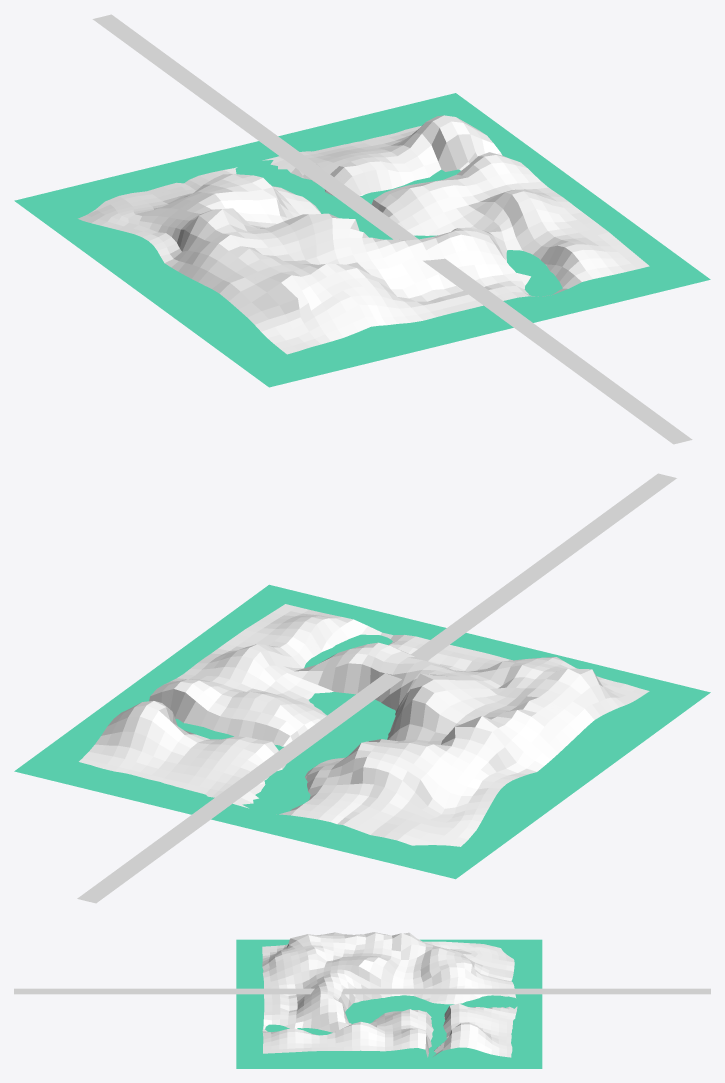
The model's file is terrian.glb.
The picture shows the model from 3 angles, top to bottom: view 1: azimuth 30°, elevation 25°; view 2: azimuth 150°, elevation 25°; view 3: azimuth 270°, elevation 25°; orthographic projection. The views are drawn at different scales.
Parts seen in each view (by area): view 1: mountain, water, Plane; view 2: mountain, water, Plane; view 3: mountain, water, Plane.
Boxes of the visible parts, bbox=[...] form: mountain: bbox=[78, 115, 649, 354]; water: bbox=[14, 93, 710, 387]; Plane: bbox=[92, 14, 692, 444]; mountain: bbox=[79, 604, 649, 846]; water: bbox=[14, 584, 710, 879]; Plane: bbox=[77, 473, 676, 903]; mountain: bbox=[262, 932, 517, 1057]; water: bbox=[236, 939, 542, 1068]; Plane: bbox=[14, 988, 710, 994].
Bounding box in the file's own units: 310 × 53.93 × 706.
